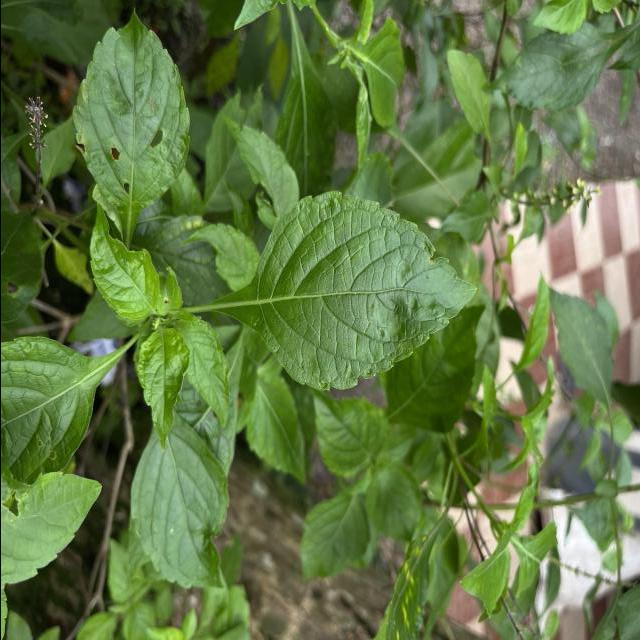Ocimum gratissimum: (187, 185, 480, 394), (67, 4, 194, 238), (0, 330, 130, 498), (124, 404, 230, 598)
